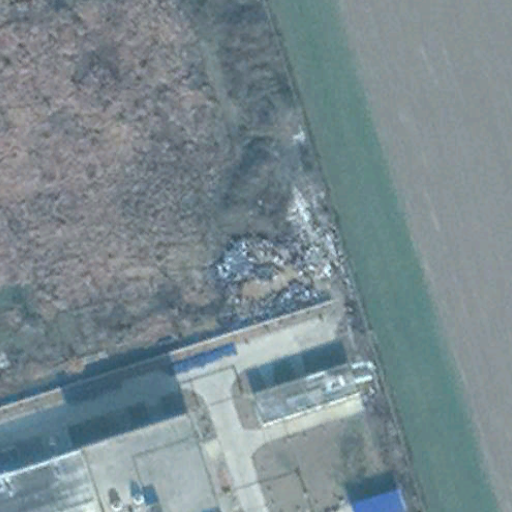msw: (214, 231, 347, 327)
